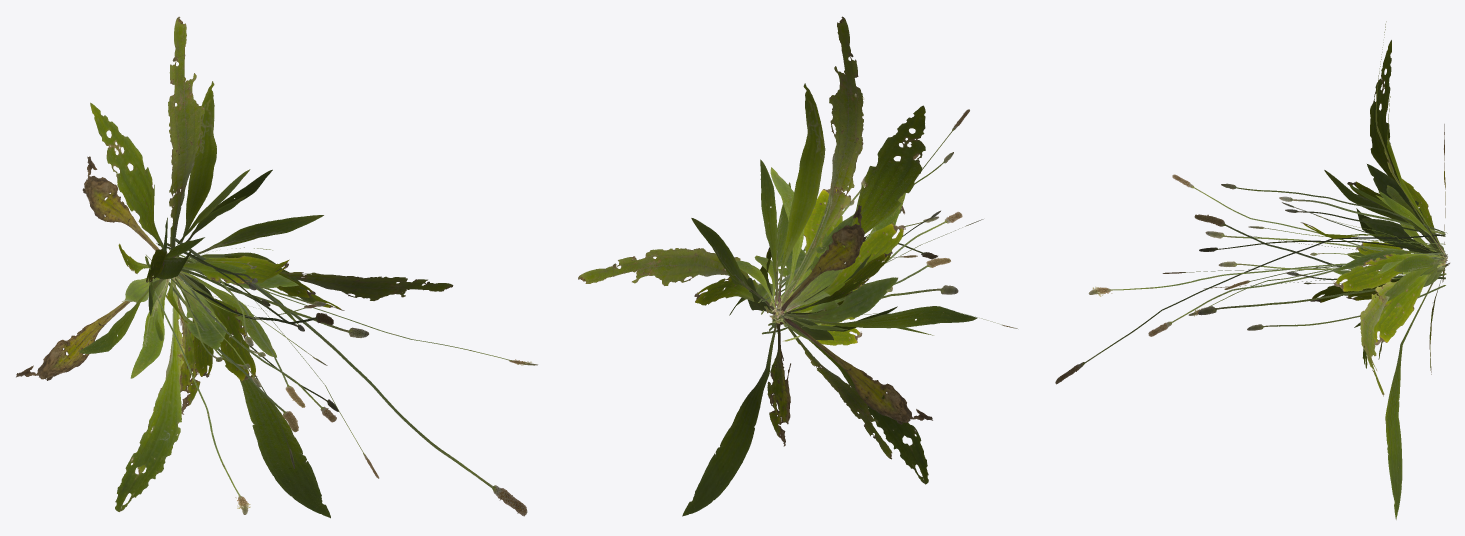
File: Weed_04_Var3_LOD1.fbx
3 renders of one model, left to right at view 1: azimuth 30°, elevation 25°; view 2: azimuth 150°, elevation 25°; view 3: azimuth 270°, elevation 25°, orthographic. The views are drawn at different scales.
Parts seen in each view (by area): view 1: Var3_LOD1; view 2: Var3_LOD1; view 3: Var3_LOD1.
Part boxes in pixels (box(x1,y1,x2,y2)): Var3_LOD1: box(16, 16, 537, 518); Var3_LOD1: box(578, 16, 1017, 516); Var3_LOD1: box(1055, 21, 1449, 519).
Bounding box in the file's own units: 51.55 × 66.86 × 54.04.
